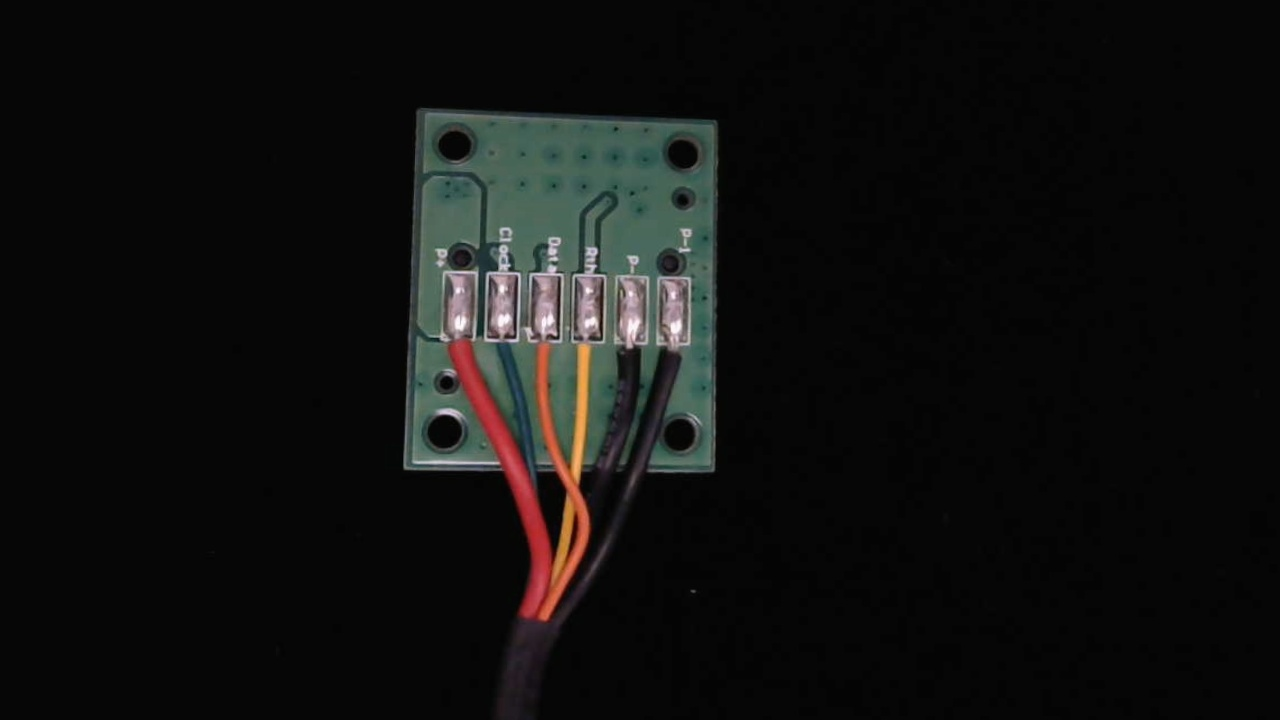Black: (613, 319, 652, 399)
Black1: (658, 323, 696, 396)
Green: (484, 319, 522, 385)
Orange: (528, 320, 565, 400)
Red: (439, 320, 479, 397)
Yellow: (566, 321, 605, 402)
